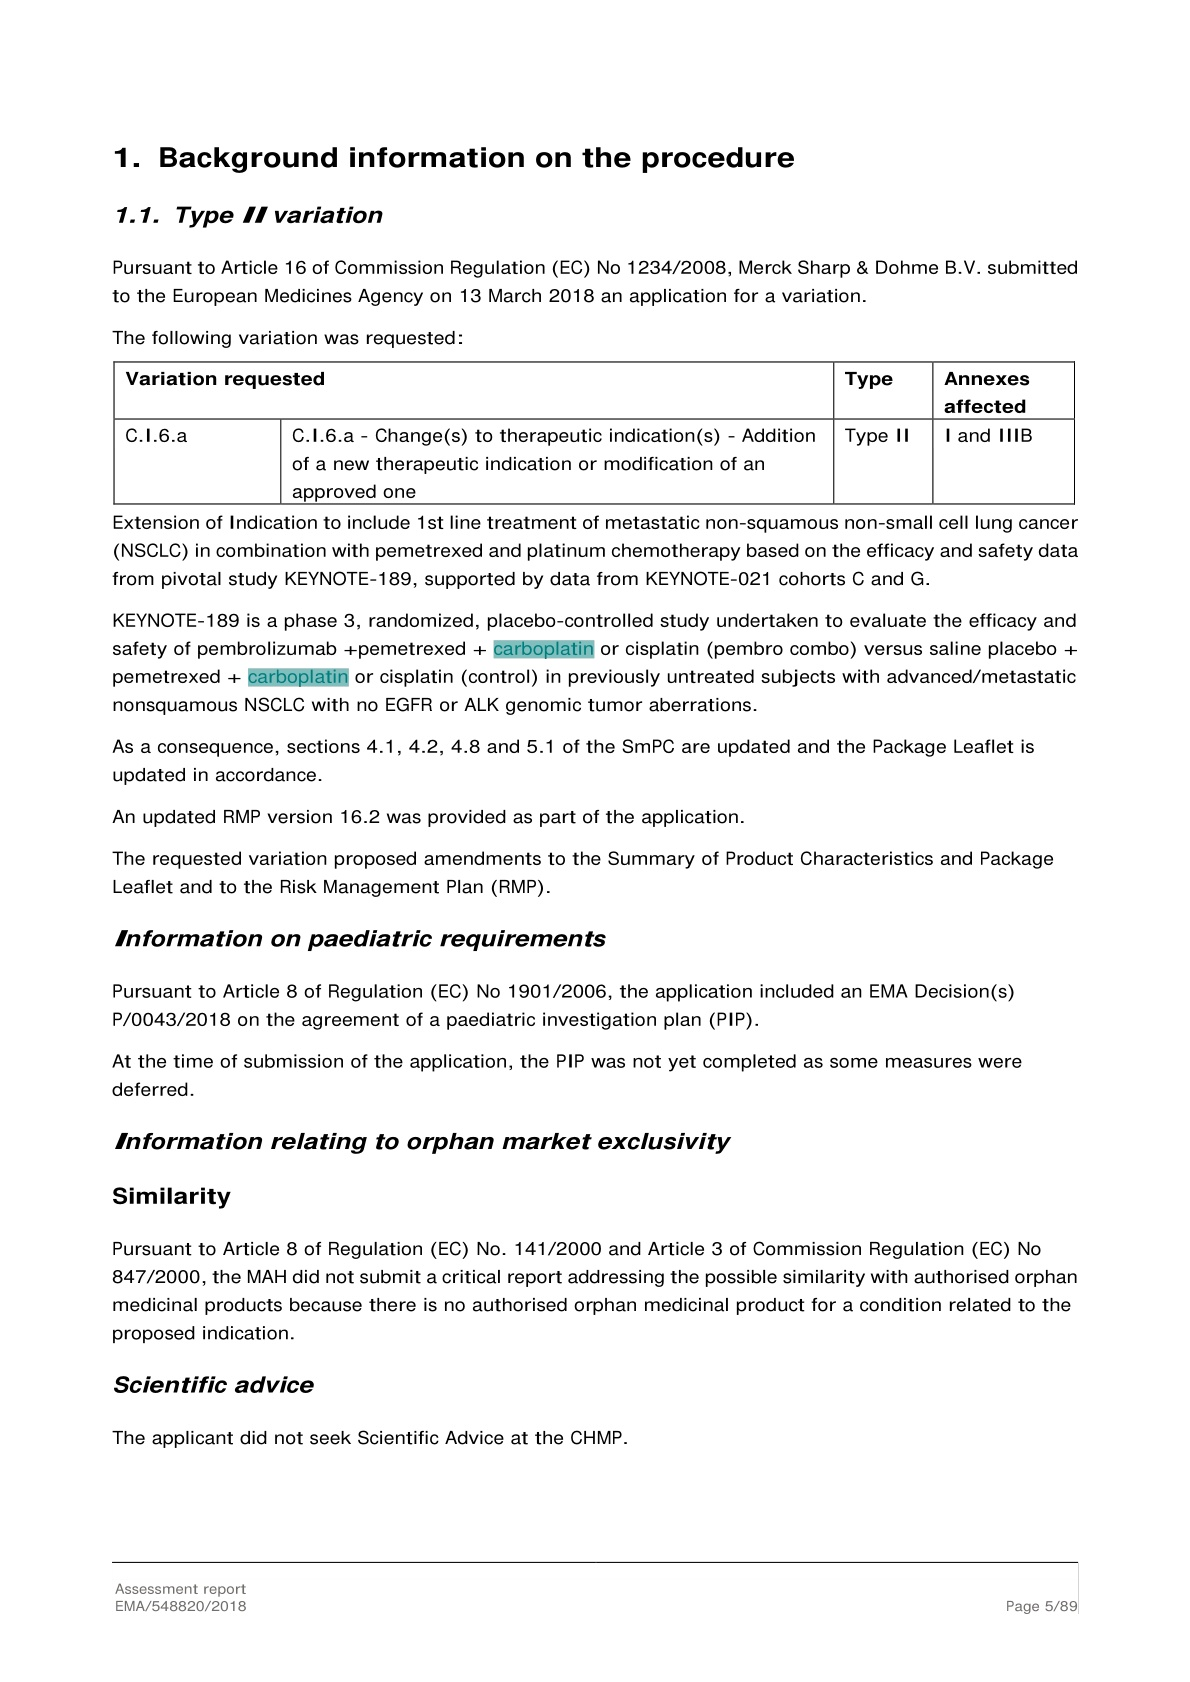merged_cells: (113, 361, 1077, 506)
